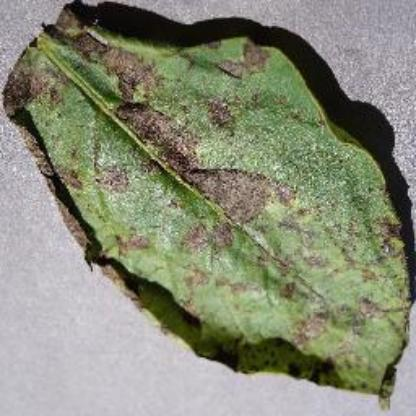Early-Blight: (4, 11, 412, 403)
